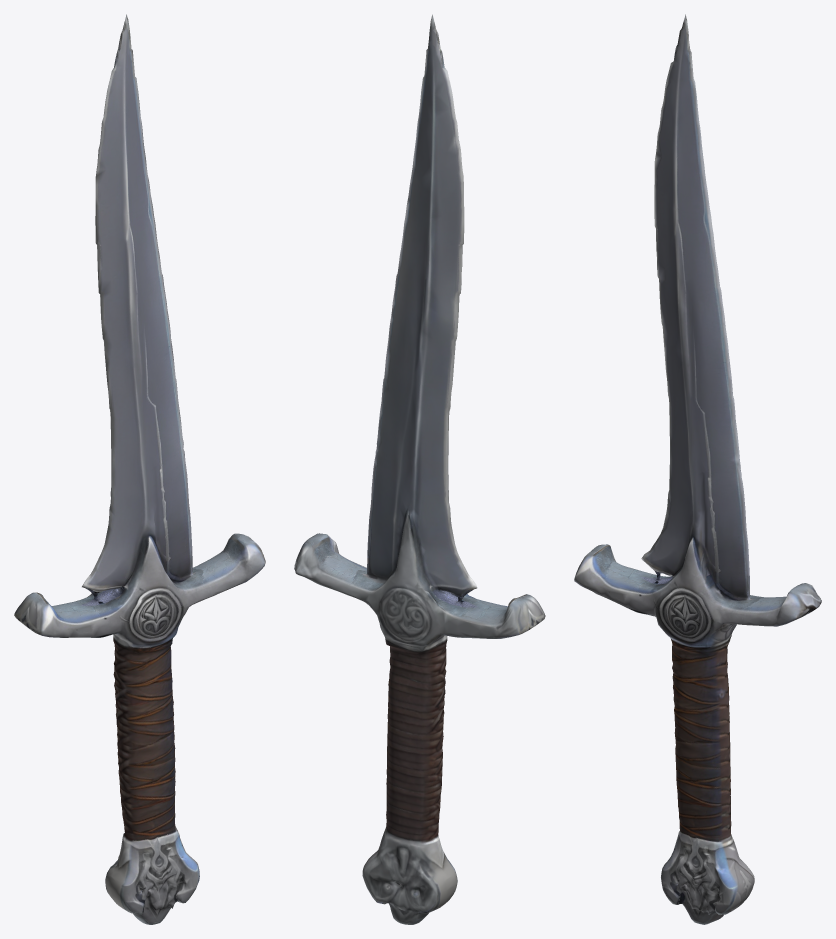
File: assassin_dagger.fbx
The picture shows the model from 3 angles, left to right: view 1: azimuth 30°, elevation 25°; view 2: azimuth 150°, elevation 25°; view 3: azimuth 330°, elevation 25°; orthographic projection.
Visible parts, largest first — view 1: Mesh_0.009; view 2: Mesh_0.009; view 3: Mesh_0.009.
Boxes of the visible parts, left/top/right/bottom form: Mesh_0.009: left=14, top=14, right=265, bottom=924; Mesh_0.009: left=294, top=14, right=545, bottom=924; Mesh_0.009: left=574, top=14, right=821, bottom=924.
Bounding box in the file's own units: 53.08 × 199 × 12.73.
1 material, 1 textured.
